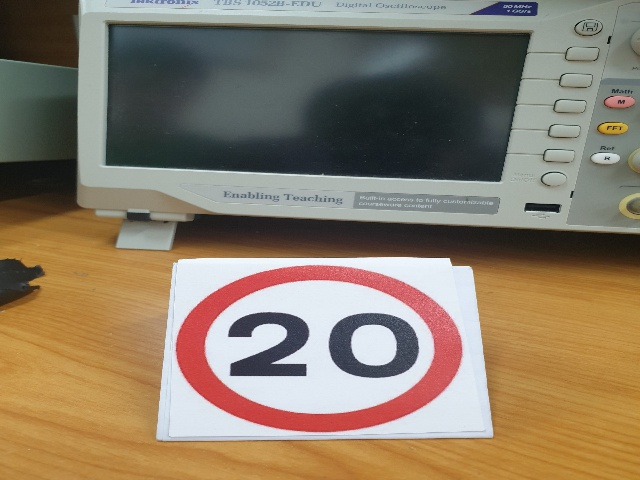Limit 20: (176, 264, 465, 430)
